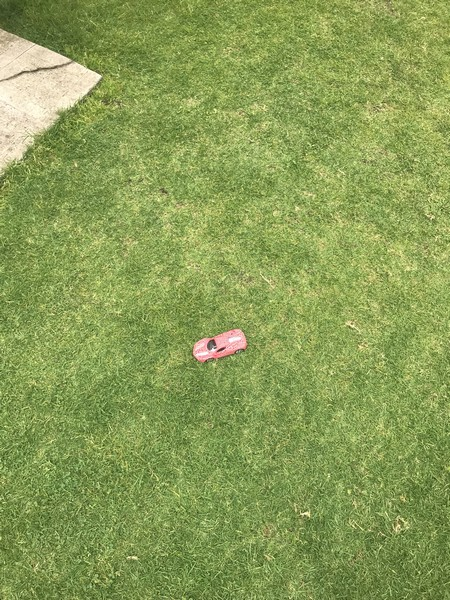RC: (190, 327, 248, 364)
